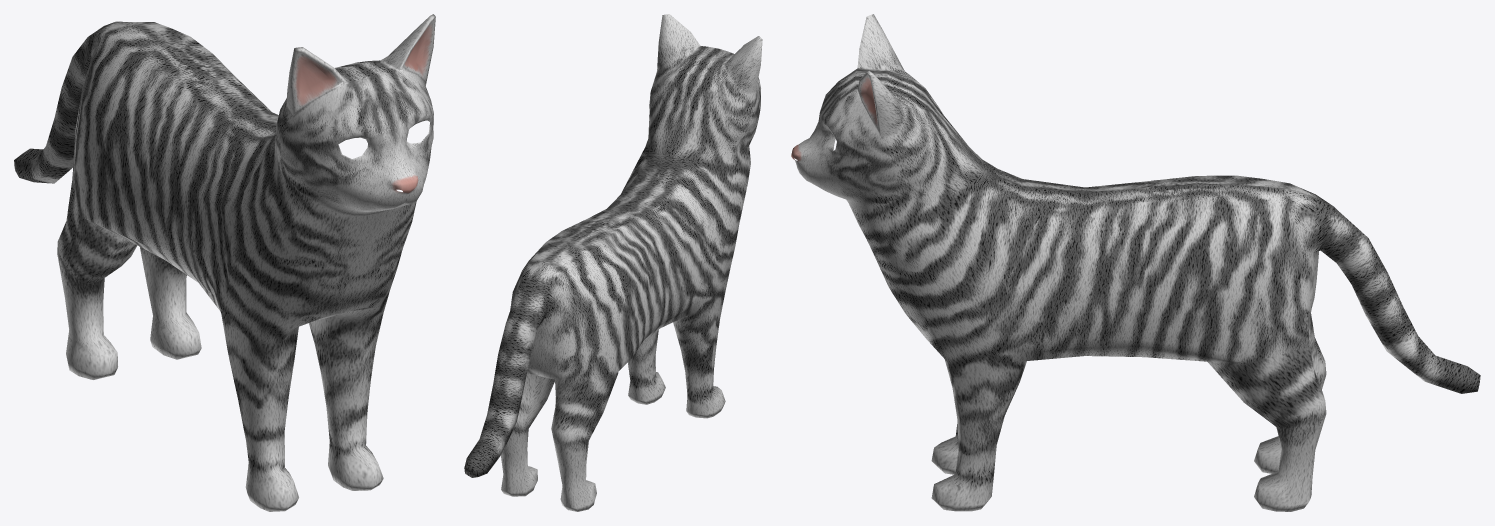
Rendered from cat_body_MT.glb.
The picture shows the model from 3 angles, left to right: view 1: azimuth 30°, elevation 25°; view 2: azimuth 150°, elevation 25°; view 3: azimuth 270°, elevation 25°; orthographic projection. The views are drawn at different scales.
Parts seen in each view (by area): view 1: body cat_geo.001; view 2: body cat_geo.001; view 3: body cat_geo.001.
Boxes of the visible parts, left/top/right/bottom form: body cat_geo.001: left=14, top=14, right=435, bottom=511; body cat_geo.001: left=464, top=14, right=762, bottom=511; body cat_geo.001: left=791, top=14, right=1480, bottom=511.
Bounding box in the file's own units: 1572 × 5053 × 7130.
1 material, 1 textured.
